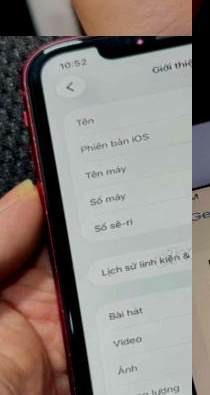scratch: (27, 222, 102, 395)
